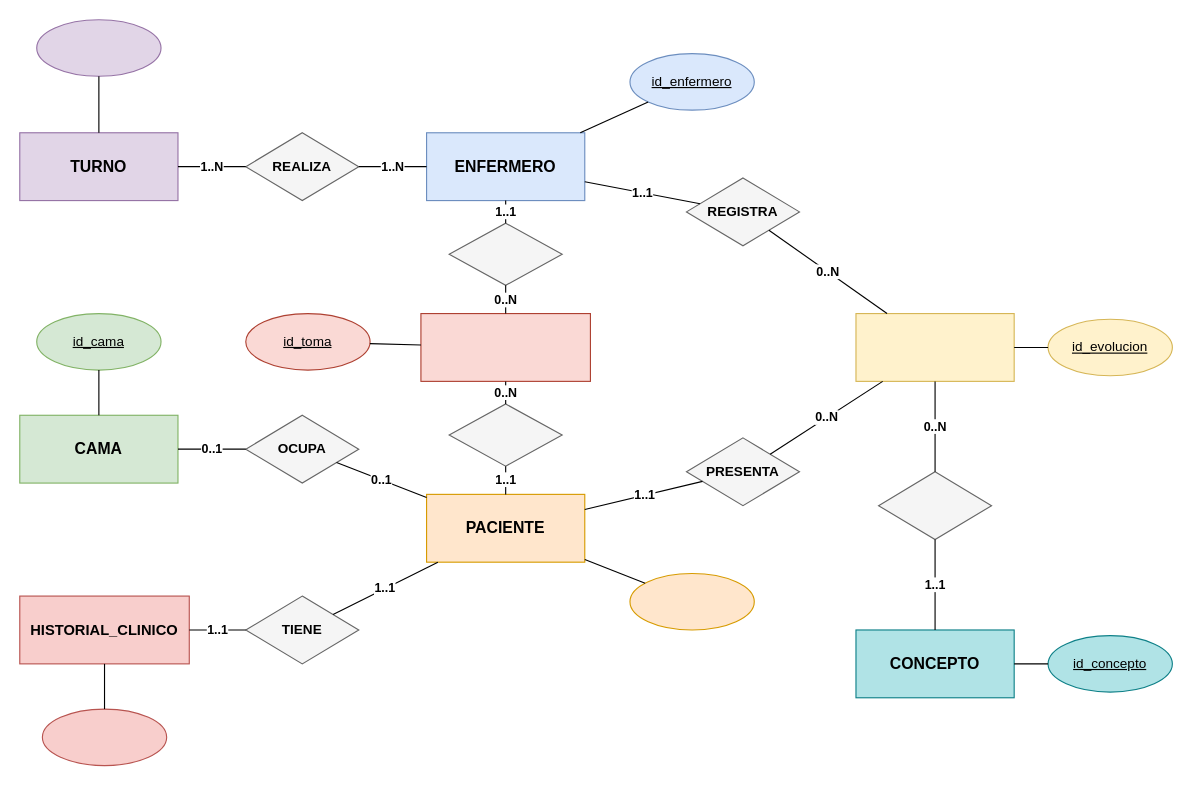
The diagram is 1192 pixels wide and 785 high, and some of its shapes have lost their labels. The centre of each missing label's shape, as x and y in pixels:
ADMINISTRA: (505,253)
EVOLUCION: (934,346)
id_historial: (104,737)
id_paciente: (691,601)
id_turno: (98,47)
RECIBE: (505,434)
SE MIDE EN: (934,505)
TOMA_MEDICACION: (505,346)
